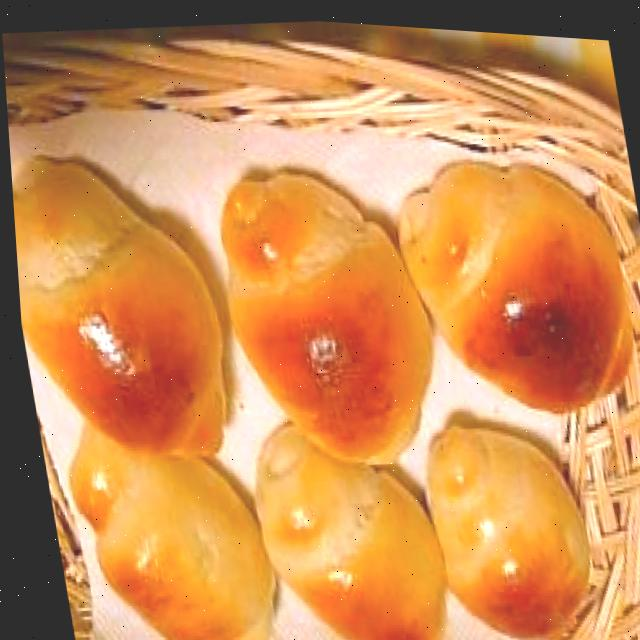面包点心: (168, 128, 472, 494)
